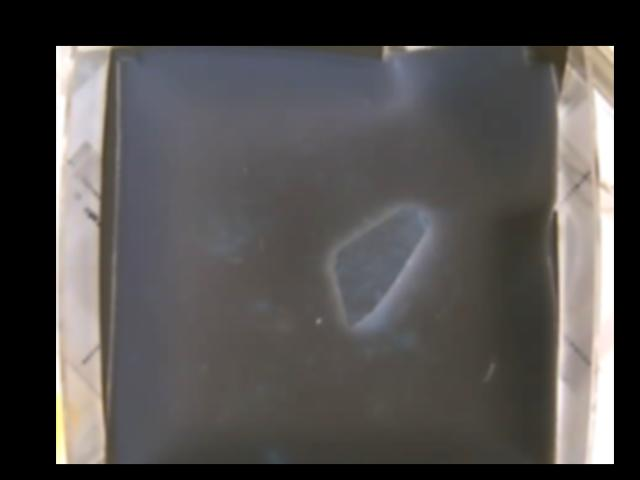China: (331, 205, 427, 322)
